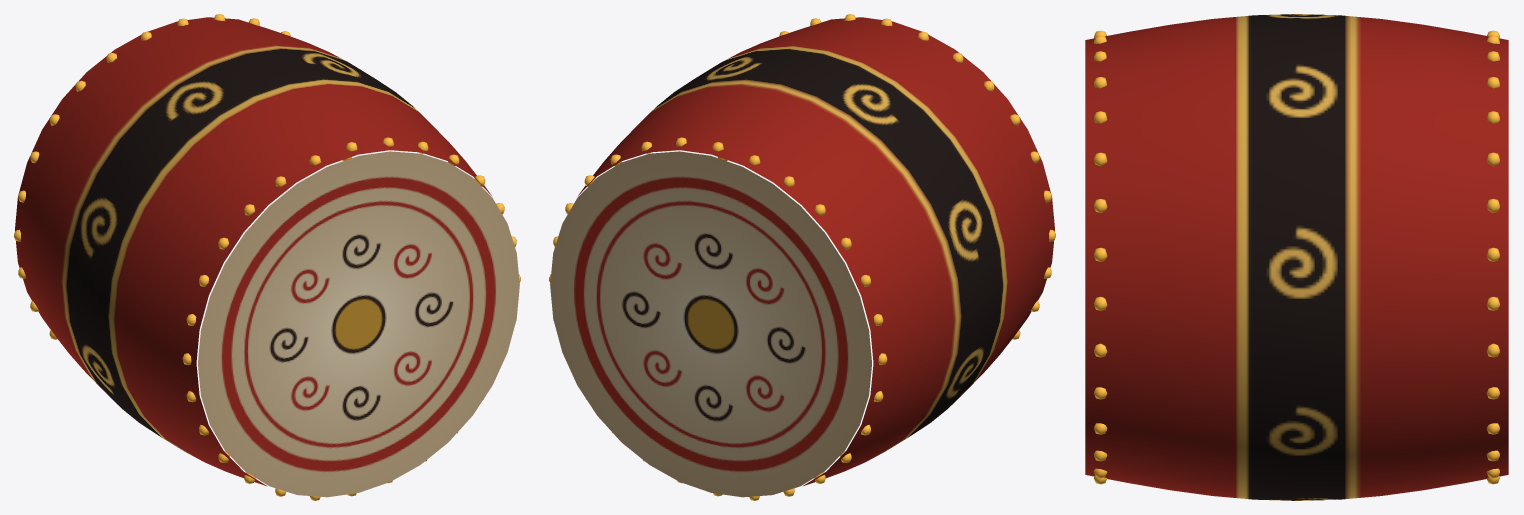
Rendered from xuangu.glb.
3 views of the same model, side by side, from view 1: azimuth 30°, elevation 25°; view 2: azimuth 150°, elevation 25°; view 3: azimuth 270°, elevation 25° (orthographic). The views are drawn at different scales.
Visible parts, largest first — view 1: Xuangu; view 2: Xuangu; view 3: Xuangu.
Part boxes in pixels (left/top/right/bottom): Xuangu: left=14, top=14, right=520, bottom=500; Xuangu: left=549, top=14, right=1055, bottom=500; Xuangu: left=1085, top=14, right=1508, bottom=500.
Size of the model in its own units: 0.8064 by 0.8064 by 0.704.
Materials: 3 (2 with a texture image).
